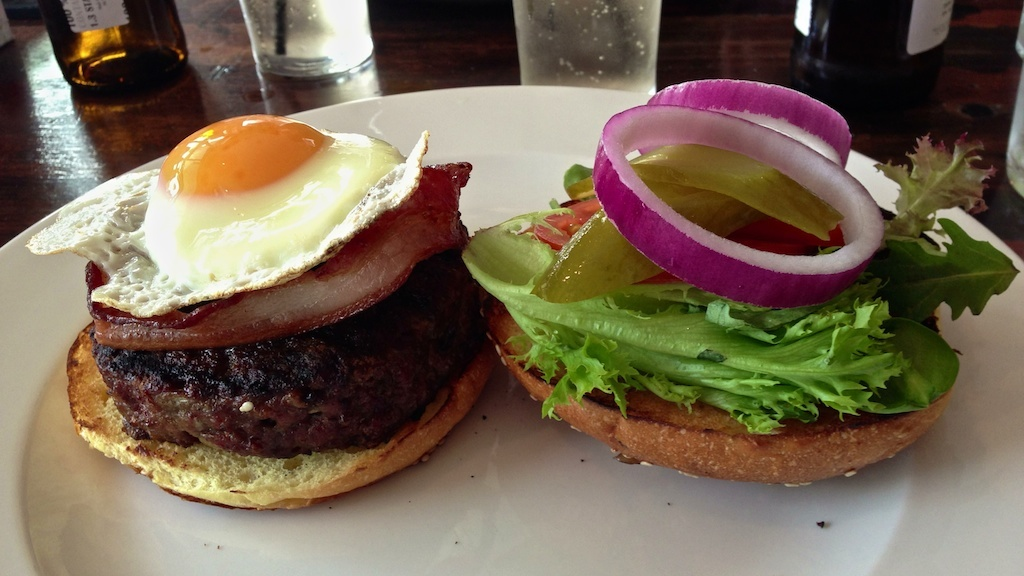Hamburger: (465, 74, 1018, 486), (28, 113, 490, 513)
